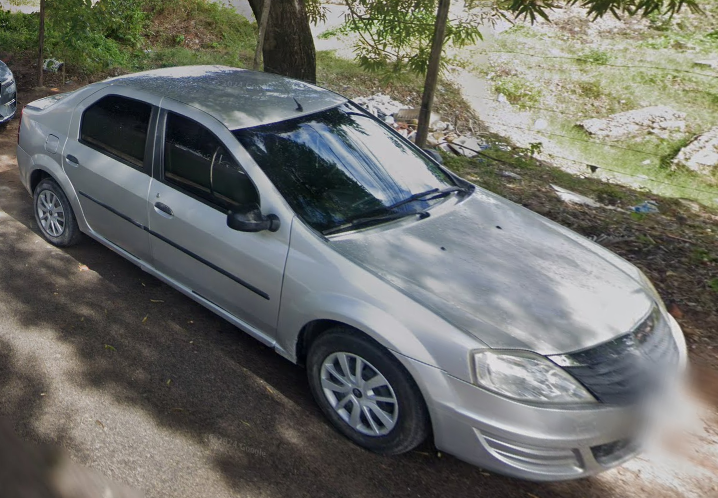car: (16, 61, 693, 478)
